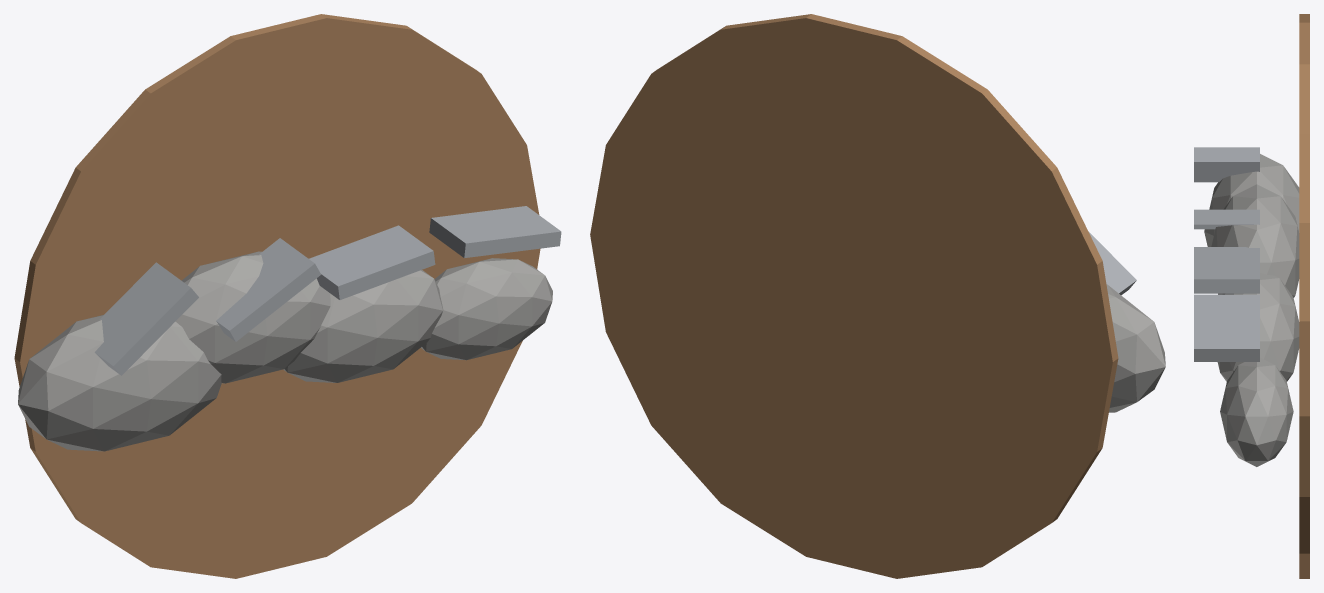
File: 02_display_prop_cluster.glb
3 renders of one model, left to right at view 1: azimuth 30°, elevation 25°; view 2: azimuth 150°, elevation 25°; view 3: azimuth 270°, elevation 25°, orthographic. The views are drawn at different scales.
Parts seen in each view (by area): view 1: scatter_base, scrap_rock_0, scrap_rock_2, scrap_rock_1, scrap_rock_3, scrap_plate_0, scrap_plate_2, scrap_plate_3, scrap_plate_1; view 2: scatter_base, scrap_rock_0, scrap_plate_0; view 3: scatter_base, scrap_rock_3, scrap_rock_1, scrap_plate_3, scrap_rock_2, scrap_plate_2, scrap_rock_0, scrap_plate_0, scrap_plate_1.
Part boxes in pixels (box(x1,y1,x2,y2)): scatter_base: box(14, 14, 540, 578); scrap_rock_0: box(18, 315, 221, 451); scrap_rock_2: box(283, 270, 443, 382); scrap_rock_1: box(175, 251, 330, 383); scrap_rock_3: box(421, 258, 552, 360); scrap_plate_0: box(94, 262, 198, 375); scrap_plate_2: box(309, 225, 435, 299); scrap_plate_3: box(429, 206, 561, 257); scrap_plate_1: box(216, 238, 321, 341); scatter_base: box(590, 14, 1118, 578); scrap_rock_0: box(1106, 284, 1165, 412); scrap_plate_0: box(1088, 231, 1136, 295); scatter_base: box(1299, 14, 1309, 578); scrap_rock_3: box(1220, 357, 1293, 466); scrap_rock_1: box(1211, 184, 1299, 297); scrap_plate_3: box(1194, 294, 1259, 361); scrap_rock_2: box(1217, 273, 1299, 381); scrap_plate_2: box(1194, 247, 1259, 293); scrap_rock_0: box(1204, 154, 1299, 246); scrap_plate_0: box(1194, 147, 1259, 182); scrap_plate_1: box(1194, 209, 1259, 229).
Size of the model in its own units: 1.99 by 1.87 by 0.3875.
